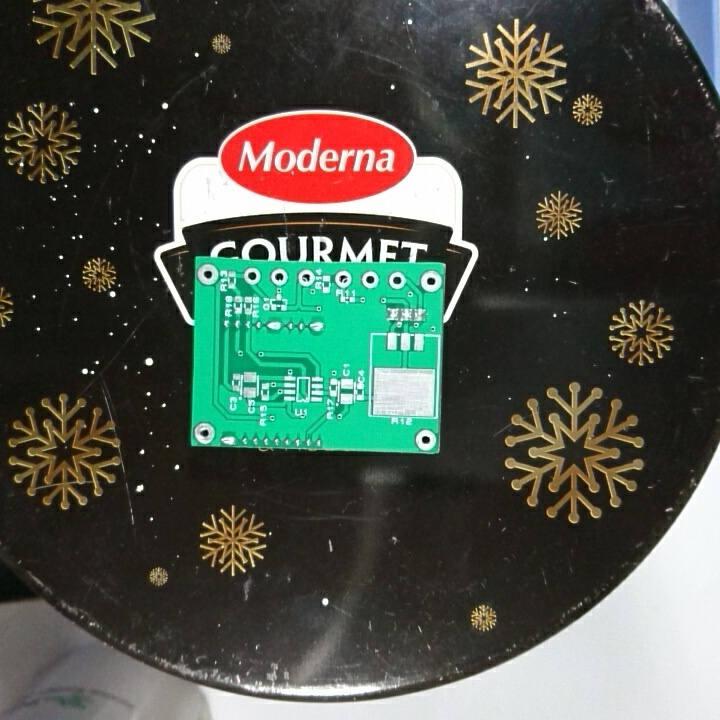F: (417, 268, 442, 296), (192, 419, 217, 445), (196, 260, 219, 288), (412, 427, 437, 452), (358, 270, 382, 292), (295, 266, 317, 289), (333, 268, 354, 291), (387, 269, 408, 290), (268, 266, 288, 288), (242, 265, 262, 287)
P: (306, 318, 327, 337), (264, 317, 286, 335), (219, 432, 239, 446)
